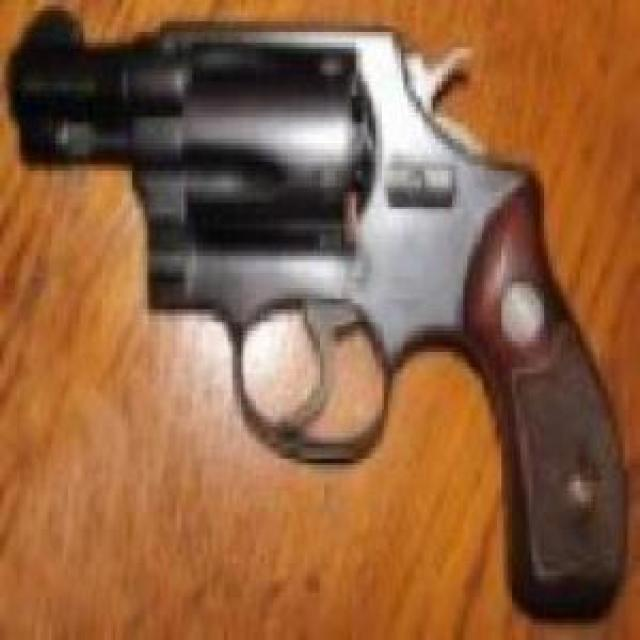pistol: (4, 7, 620, 614)
